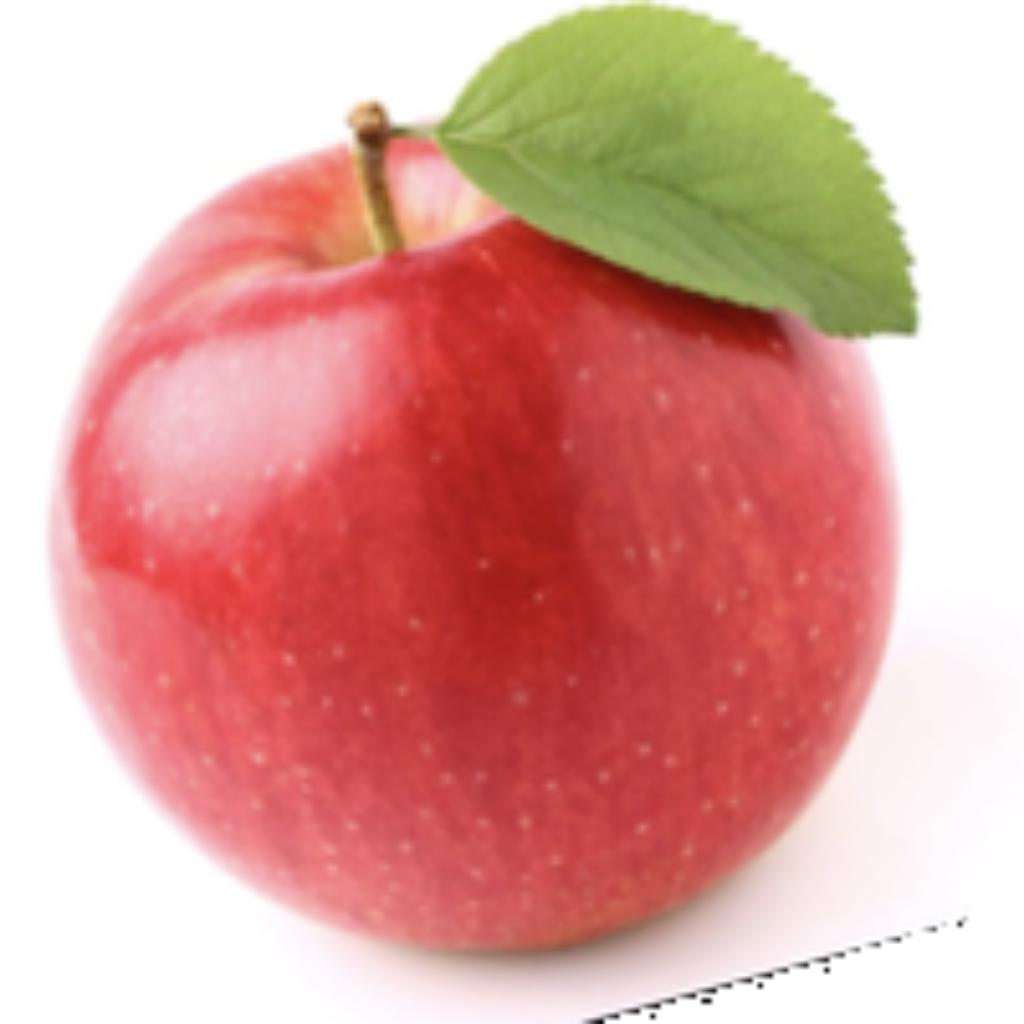apple: (36, 0, 922, 1019)
